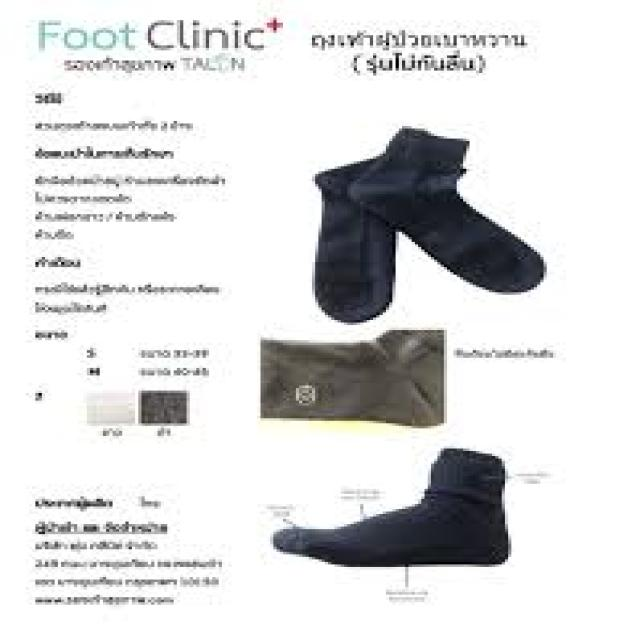sock: (270, 446, 508, 567)
